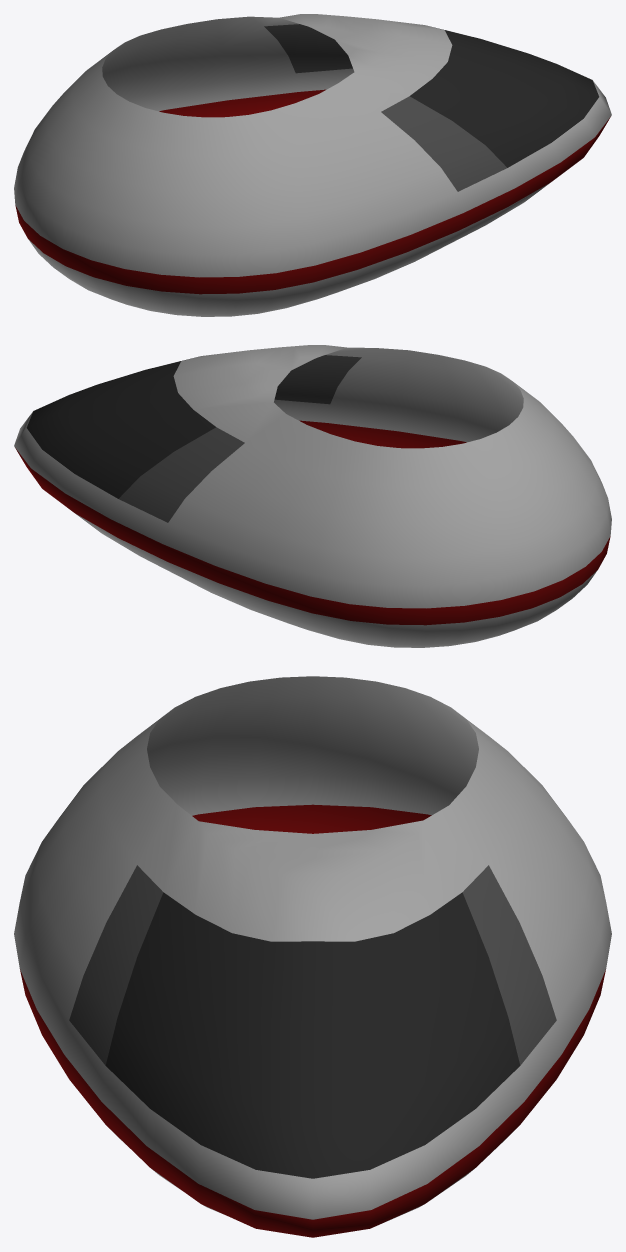
The model's file is SpaceShip.fbx.
3 views of the same model, one above another, from view 1: azimuth 30°, elevation 25°; view 2: azimuth 150°, elevation 25°; view 3: azimuth 270°, elevation 25° (orthographic). The views are drawn at different scales.
Parts seen in each view (by area): view 1: Sphere; view 2: Sphere; view 3: Sphere.
Part boxes in pixels (left/top/right/bottom): Sphere: left=14, top=14, right=611, bottom=316; Sphere: left=14, top=345, right=611, bottom=647; Sphere: left=14, top=676, right=611, bottom=1237.
Bounding box in the file's own units: 4.6 × 1.67 × 2.8.
